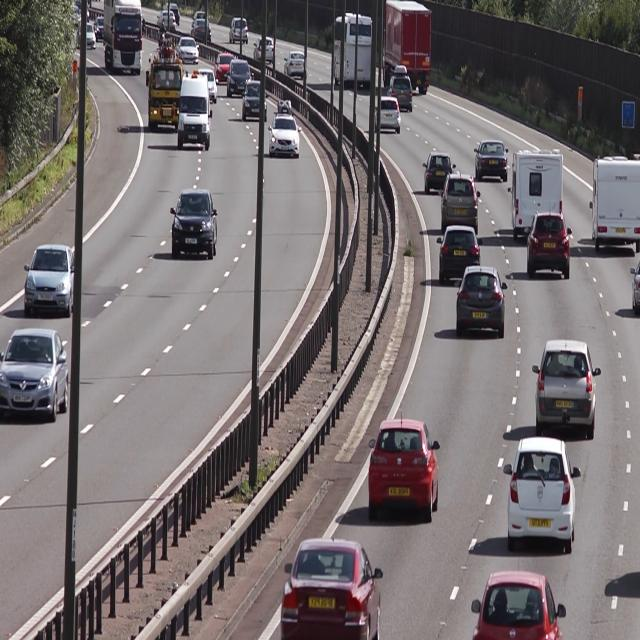Car: (280, 535, 384, 640), (502, 440, 580, 553), (367, 414, 438, 519), (530, 336, 598, 436), (0, 331, 69, 424), (588, 156, 640, 254), (509, 146, 564, 234), (452, 262, 510, 340), (383, 3, 432, 95), (21, 243, 76, 316), (169, 184, 218, 262), (329, 11, 374, 92), (523, 210, 574, 280), (102, 0, 145, 82), (174, 70, 213, 150), (149, 40, 181, 134), (438, 223, 482, 290), (439, 168, 480, 239), (473, 128, 510, 188), (266, 98, 300, 160), (422, 148, 454, 192), (386, 68, 412, 114), (376, 93, 401, 138), (240, 79, 266, 122), (225, 55, 249, 98), (283, 49, 306, 78), (176, 34, 197, 64)
